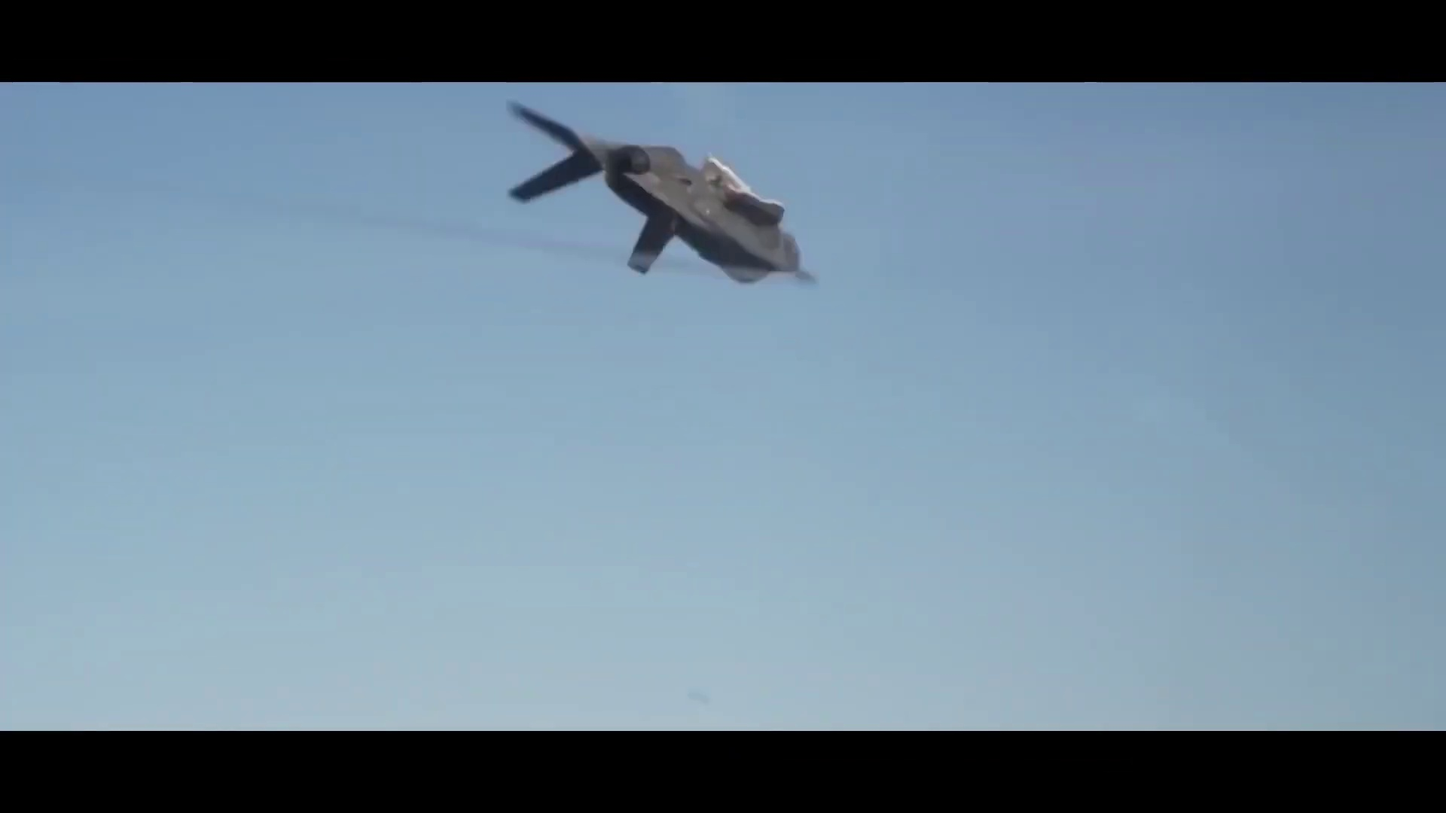F35: (505, 102, 820, 288)
